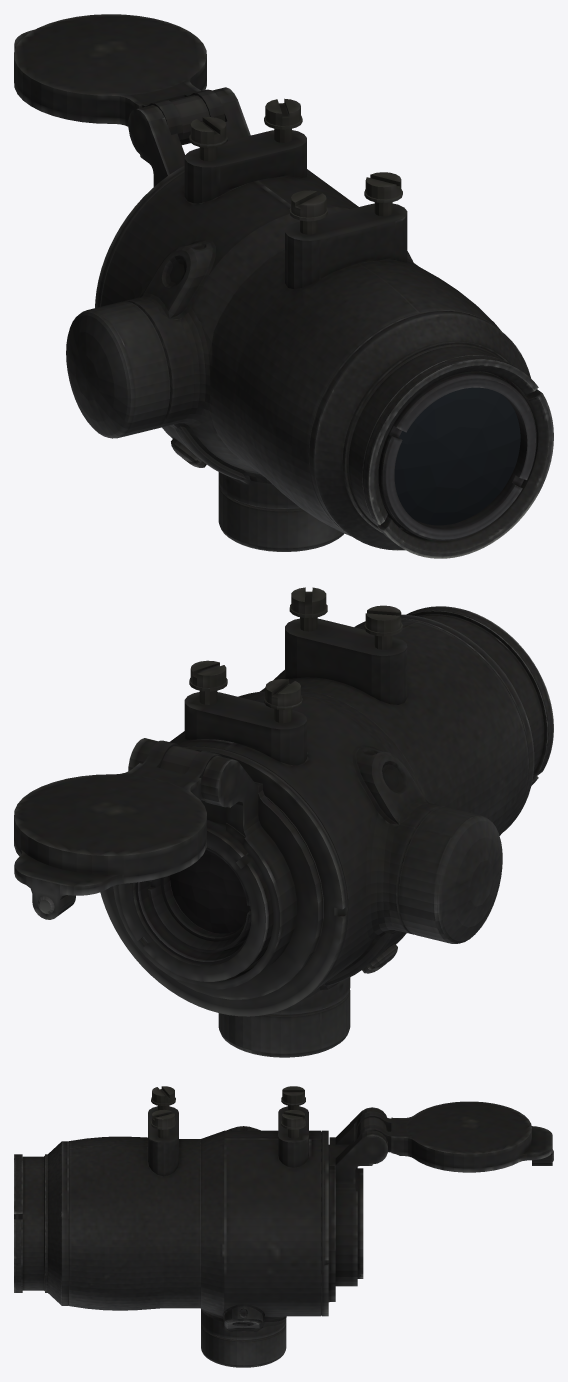
3 views of the same model, one above another, from view 1: azimuth 30°, elevation 25°; view 2: azimuth 150°, elevation 25°; view 3: azimuth 270°, elevation 25° (orthographic). The views are drawn at different scales.
Parts seen in each view (by area): view 1: TW_618a75f0bd321d49084cd399_PZ_Import; view 2: TW_618a75f0bd321d49084cd399_PZ_Import; view 3: TW_618a75f0bd321d49084cd399_PZ_Import.
Boxes of the visible parts, x1,y1,x2,y2 form: TW_618a75f0bd321d49084cd399_PZ_Import: (14, 14, 553, 558); TW_618a75f0bd321d49084cd399_PZ_Import: (14, 587, 553, 1057); TW_618a75f0bd321d49084cd399_PZ_Import: (14, 1086, 553, 1367).
Bounding box in the file's own units: 0.0415 × 0.0927 × 0.0484.
1 material, 1 textured.
